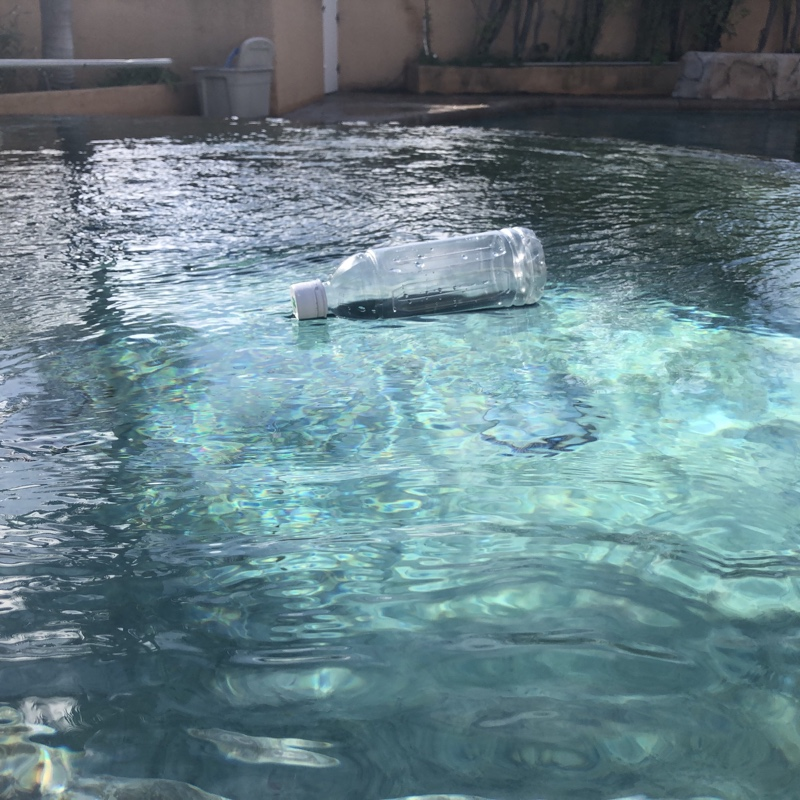Plastic Bottle: (285, 225, 553, 323)
